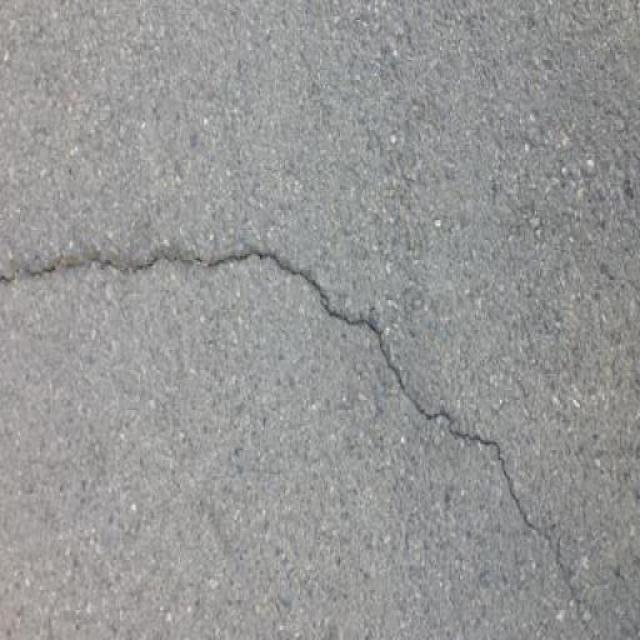Crack: (3, 216, 609, 638)
